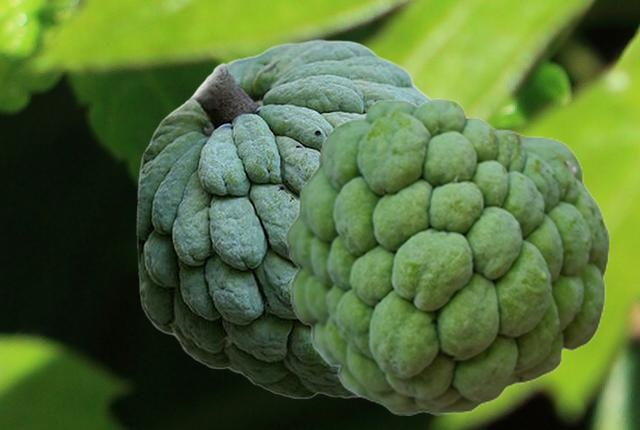atis: (136, 39, 431, 398), (284, 98, 609, 414)
